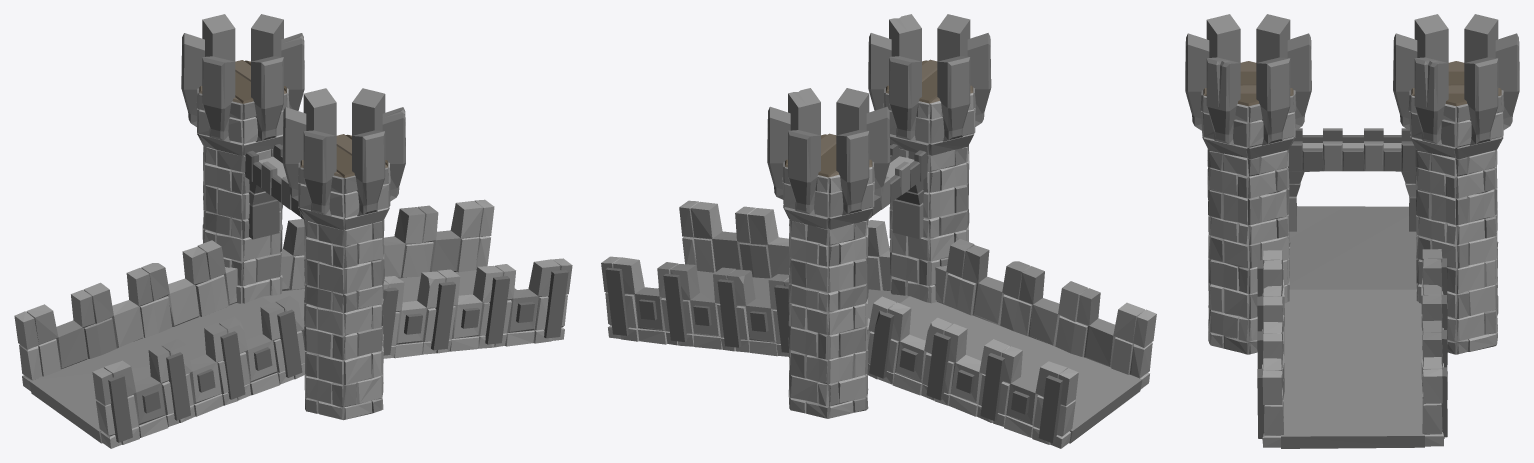
Rendered from _BRIDGE_FULL.fbx.
3 renders of one model, left to right at view 1: azimuth 30°, elevation 25°; view 2: azimuth 150°, elevation 25°; view 3: azimuth 270°, elevation 25°, orthographic. The views are drawn at different scales.
Visible parts, largest first — view 1: BRIDGE_MAIN_01, BRIDGE_MAIN_02, PROPS_UP_04, PROPS_UP_03, PROPS_PART_03, PROPS_PART_02, bRUDGE_PART_2_01; view 2: BRIDGE_MAIN_01, BRIDGE_MAIN_02, PROPS_UP_03, PROPS_UP_04, PROPS_PART_02, PROPS_PART_03, bRUDGE_PART_2_01; view 3: BRIDGE_MAIN_02, PROPS_UP_03, PROPS_UP_04, BRIDGE_MAIN_01, PROPS_PART_02, PROPS_PART_03, bRUDGE_PART_2_01.
Part boxes in pixels (x1,y1,x2,y2): BRIDGE_MAIN_01: (14,240,304,448); BRIDGE_MAIN_02: (263,199,572,358); PROPS_UP_04: (282,88,405,293); PROPS_UP_03: (181,14,304,219); PROPS_PART_03: (304,269,383,420); PROPS_PART_02: (202,196,282,303); bRUDGE_PART_2_01: (245,144,304,239); BRIDGE_MAIN_01: (867,239,1156,448); BRIDGE_MAIN_02: (601,200,909,356); PROPS_UP_03: (767,88,890,292); PROPS_UP_04: (868,14,991,218); PROPS_PART_02: (788,268,868,418); PROPS_PART_03: (889,204,969,303); bRUDGE_PART_2_01: (868,144,927,238); BRIDGE_MAIN_02: (1257,249,1447,448); PROPS_UP_03: (1393,14,1519,225); PROPS_UP_04: (1185,14,1311,225); BRIDGE_MAIN_01: (1289,206,1416,289); PROPS_PART_02: (1416,202,1498,354); PROPS_PART_03: (1208,214,1290,354); bRUDGE_PART_2_01: (1288,128,1416,231).
Bounding box in the file's own units: 1326 × 780 × 795.
